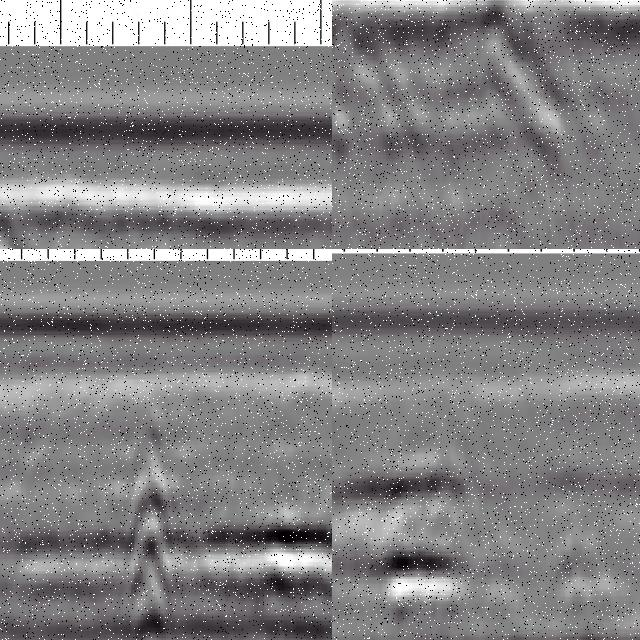crack: (123, 396, 172, 640)
loose: (333, 1, 570, 162), (333, 465, 497, 603)
